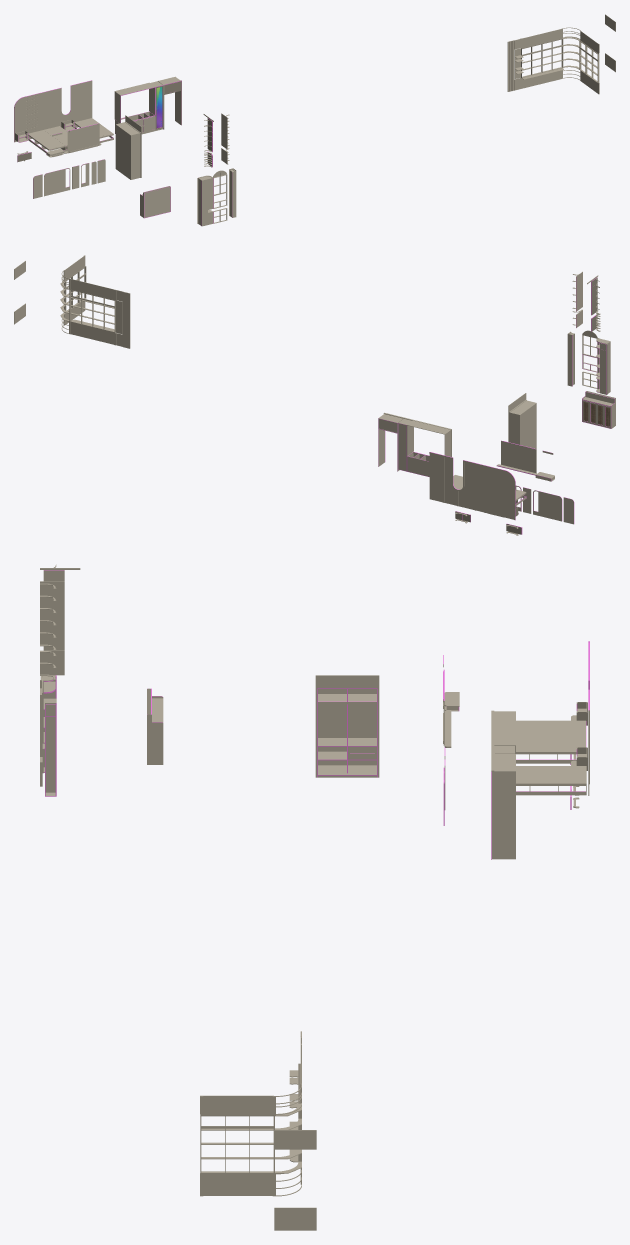
3 renders of one model, top to bottom at view 1: azimuth 30°, elevation 25°; view 2: azimuth 150°, elevation 25°; view 3: azimuth 270°, elevation 25°, orthographic. The views are drawn at different scales.
Visible parts, largest first — view 1: Geom3D, Geom3D_ABF_PART_13____13. Tủ giầy thấp - Hậu, Geom3D_ABF_PART_488____488. Kệ tivi - Hậu, Geom3D_ABF_PART_410____410. Ốp đầu giường 34 - Vách ốp - 1, Geom3D_ABF_PART_414____414. Ốp đầu giường 34 - Vách ốp - 6, Geom3D_ABF_PART_121____121. Hệ tủ giầy - Tủ giầy - modul dướ, Geom3D_ABF_PART_415____415. Ốp đầu giường 34 - Vách ốp - 3, Geom3D_ABF_PART_618____618. Hệ vách tivi - Vách ốp, Geom3D_ABF_PART_402____402. Tủ áo - Hậu, Geom3D_ABF_PART_395____395. Tủ áo - Hông trái, Geom3D_ABF_PART_401____401. Tủ áo - Hậu, Geom3D_ABF_PART_425____425. Ốp đầu giường 34 - Vách ốp - 7 (+4 smaller); view 2: Geom3D, Geom3D_ABF_PART_423____423. Ốp đầu giường 34 - Tấm nền, Geom3D_ABF_PART_488____488. Kệ tivi - Hậu, Geom3D_ABF_PART_410____410. Ốp đầu giường 34 - Vách ốp - 1, Geom3D_ABF_PART_415____415. Ốp đầu giường 34 - Vách ốp - 3, Geom3D_ABF_PART_637____637. Hệ vách tivi - Vách ốp, Geom3D_ABF_PART_618____618. Hệ vách tivi - Vách ốp, Geom3D_ABF_PART_420____420. Ốp đầu giường 34 - Vách ốp - 2, Geom3D_ABF_PART_425____425. Ốp đầu giường 34 - Vách ốp - 7, Geom3D_ABF_PART_269____269. Tủ khô - Hậu; view 3: Geom3D_ABF_PART_260____260. Tủ lạnh - Hông phải, Geom3D_ABF_PART_639____639. Hệ vách tivi - Vách ốp, Geom3D_ABF_PART_97____97. Ốp cột, Geom3D_ABF_PART_633____633. Hệ vách tivi - Vách ốp, Geom3D_ABF_PART_401____401. Tủ áo - Hậu, Geom3D_ABF_PART_513____513. Giường 2m bộc nệm - Vạt gường, Geom3D_ABF_PART_402____402. Tủ áo - Hậu, Geom3D_ABF_PART_449____449. Giường 2m bộc nệm - Vạt gường, Geom3D_ABF_PART_439____439. Giường 2m bộc nệm - Vạt gường, Geom3D_ABF_PART_591____591. Hệ vách tivi - Vách ốp, Geom3D_ABF_PART_394____394. Tủ áo - Ốp nóc.
Part boxes in pixels (x1,y1,x2,y2): Geom3D: (67, 123, 99, 153); Geom3D_ABF_PART_13____13. Tủ giầy thấp - Hậu: (144, 191, 170, 217); Geom3D_ABF_PART_488____488. Kệ tivi - Hậu: (44, 168, 70, 196); Geom3D_ABF_PART_410____410. Ốp đầu giường 34 - Vách ốp - 1: (79, 80, 92, 120); Geom3D_ABF_PART_414____414. Ốp đầu giường 34 - Vách ốp - 6: (25, 93, 38, 133); Geom3D_ABF_PART_121____121. Hệ tủ giầy - Tủ giầy - modul dướ: (202, 184, 213, 226); Geom3D_ABF_PART_415____415. Ốp đầu giường 34 - Vách ốp - 3: (51, 88, 66, 127); Geom3D_ABF_PART_618____618. Hệ vách tivi - Vách ốp: (521, 29, 562, 48); Geom3D_ABF_PART_402____402. Tủ áo - Hậu: (115, 124, 123, 174); Geom3D_ABF_PART_395____395. Tủ áo - Hông trái: (131, 133, 139, 179); Geom3D_ABF_PART_401____401. Tủ áo - Hậu: (123, 130, 131, 179); Geom3D_ABF_PART_425____425. Ốp đầu giường 34 - Vách ốp - 7: (14, 97, 25, 142); Geom3D: (501, 441, 536, 473); Geom3D_ABF_PART_423____423. Ốp đầu giường 34 - Tấm nền: (487, 466, 504, 517); Geom3D_ABF_PART_488____488. Kệ tivi - Hậu: (533, 490, 561, 521); Geom3D_ABF_PART_410____410. Ốp đầu giường 34 - Vách ốp - 1: (429, 454, 442, 502); Geom3D_ABF_PART_415____415. Ốp đầu giường 34 - Vách ốp - 3: (459, 462, 474, 509); Geom3D_ABF_PART_637____637. Hệ vách tivi - Vách ốp: (71, 322, 115, 344); Geom3D_ABF_PART_618____618. Hệ vách tivi - Vách ốp: (71, 279, 115, 300); Geom3D_ABF_PART_420____420. Ốp đầu giường 34 - Vách ốp - 2: (444, 457, 457, 505); Geom3D_ABF_PART_425____425. Ốp đầu giường 34 - Vách ốp - 7: (504, 472, 513, 519); Geom3D_ABF_PART_269____269. Tủ khô - Hậu: (398, 423, 406, 471); Geom3D_ABF_PART_260____260. Tủ lạnh - Hông phải: (492, 771, 515, 859); Geom3D_ABF_PART_639____639. Hệ vách tivi - Vách ốp: (203, 1173, 272, 1195); Geom3D_ABF_PART_97____97. Ốp cột: (40, 581, 64, 645); Geom3D_ABF_PART_633____633. Hệ vách tivi - Vách ốp: (200, 1095, 273, 1115); Geom3D_ABF_PART_401____401. Tủ áo - Hậu: (318, 689, 346, 765); Geom3D_ABF_PART_513____513. Giường 2m bộc nệm - Vạt gường: (516, 766, 586, 784); Geom3D_ABF_PART_402____402. Tủ áo - Hậu: (348, 689, 376, 765); Geom3D_ABF_PART_449____449. Giường 2m bộc nệm - Vạt gường: (516, 720, 585, 736); Geom3D_ABF_PART_439____439. Giường 2m bộc nệm - Vạt gường: (516, 736, 585, 752); Geom3D_ABF_PART_591____591. Hệ vách tivi - Vách ốp: (274, 1207, 316, 1230); Geom3D_ABF_PART_394____394. Tủ áo - Ốp nóc: (315, 675, 379, 688).
Size of the model in its own units: 30.34 by 7.11 by 13.37.
6 materials, 2 textured.
